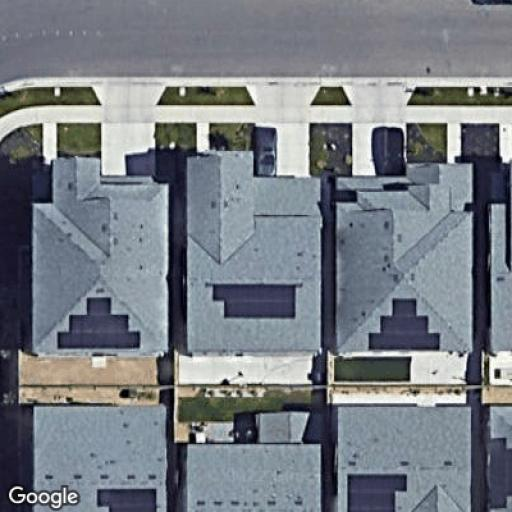solar-panel: (53, 293, 146, 353), (366, 296, 443, 352), (208, 281, 302, 321), (345, 466, 411, 512), (486, 434, 512, 512), (94, 485, 158, 512)
